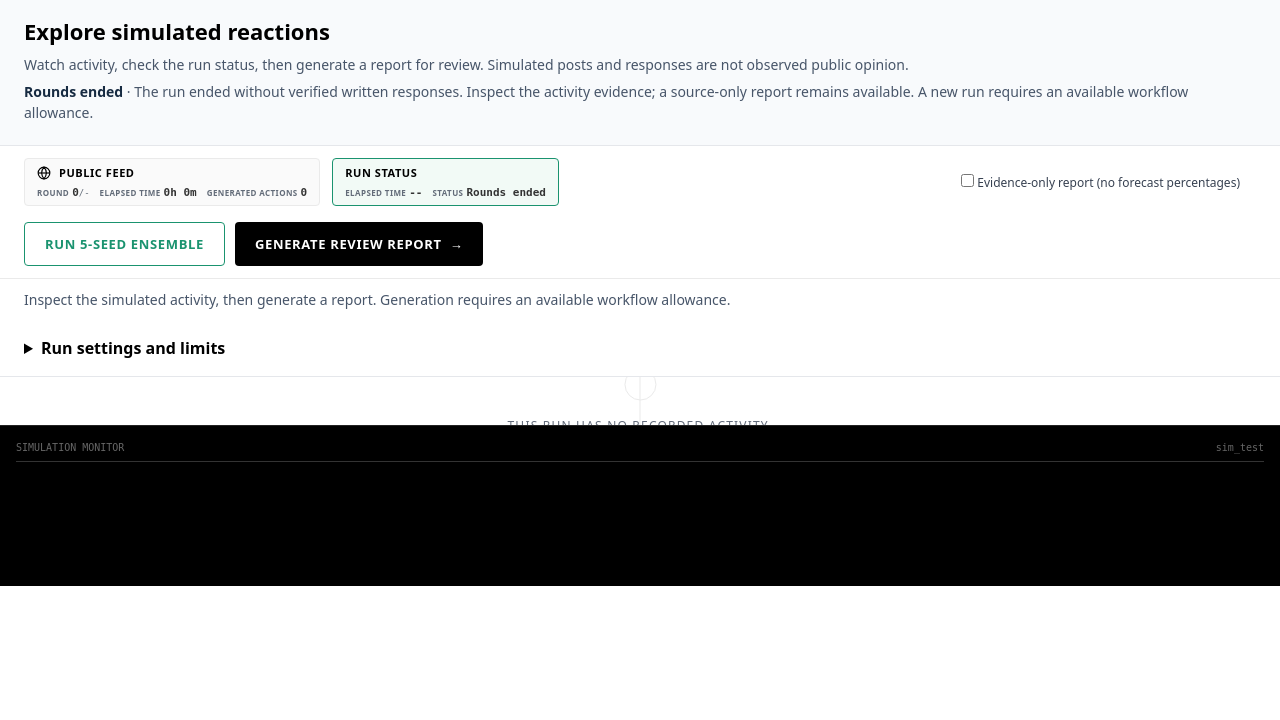
retains completed run state and explains a rejected ensemble admission
Click the button with class "ensemble". click: (124, 244)
box: left=24, top=222, right=225, bottom=266
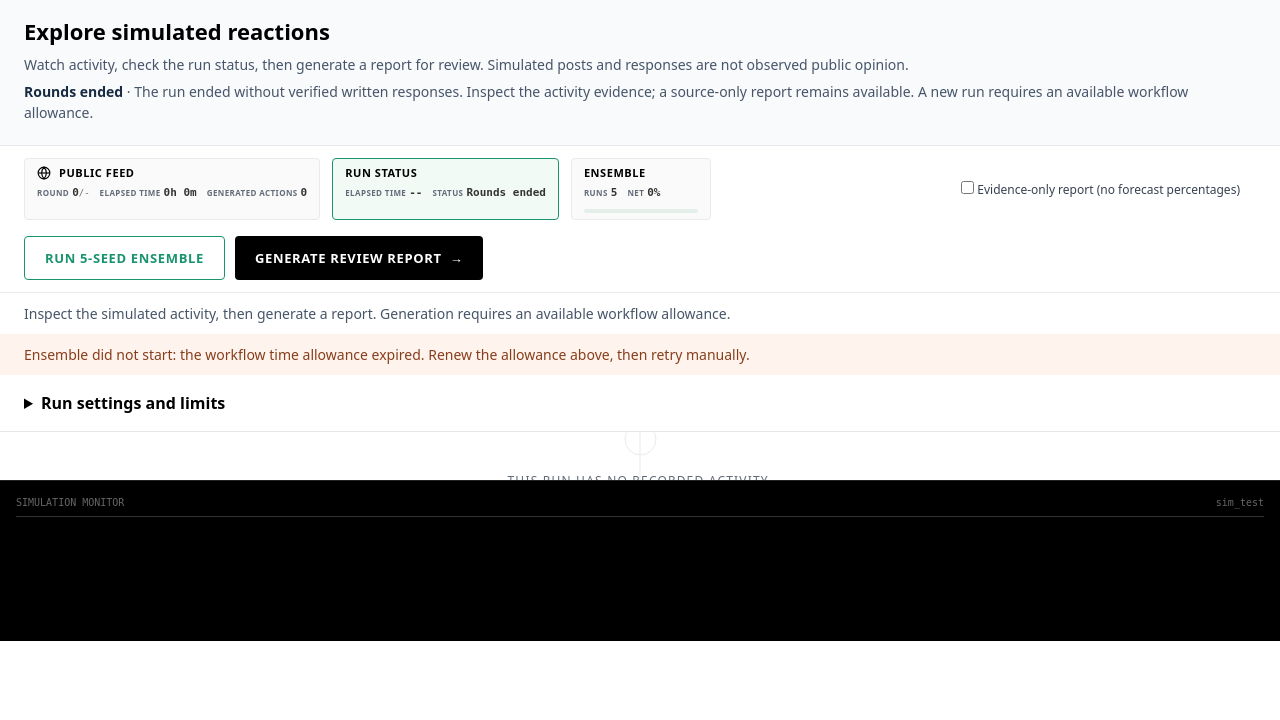
expect the button with class "ensemble" is enabled: met, box left=24, top=236, right=225, bottom=280
expect the 3rd message shows "workflow time allowance expired": met, box left=24, top=345, right=750, bottom=364
